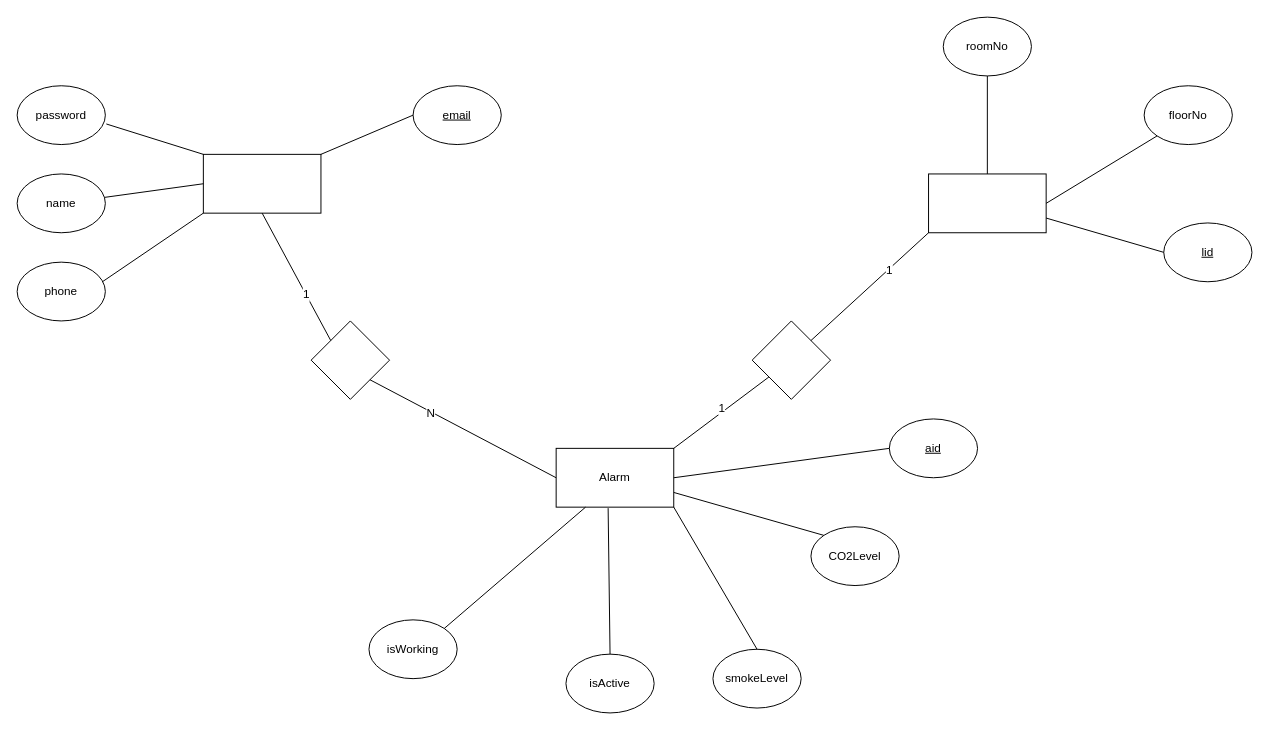
This 1269x730 diagram has some shape labels left out. Here are the shapes that lost their labels. From the top down, the centre of each, then its label:
At pixel 261 183: "User".
At pixel 987 203: "Location".
At pixel 350 359: "handles".
At pixel 791 359: "has".
